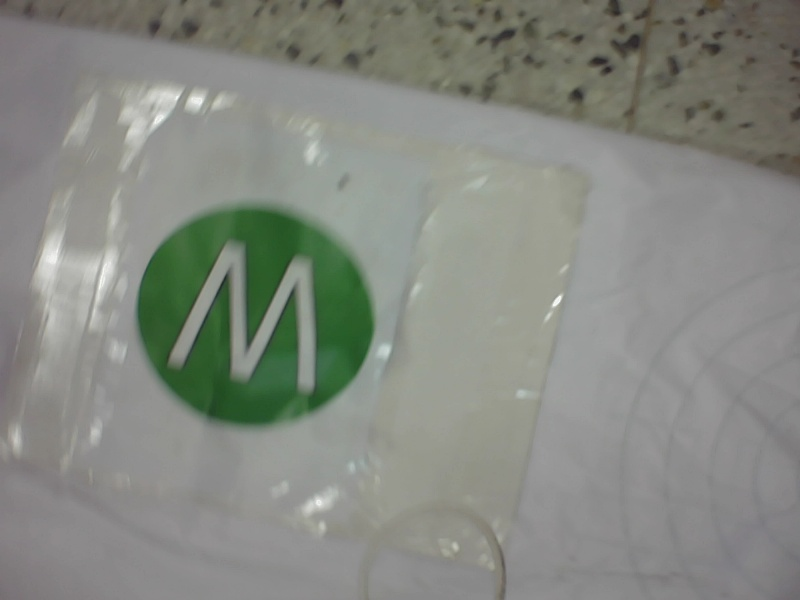areaB: (127, 197, 381, 431)
